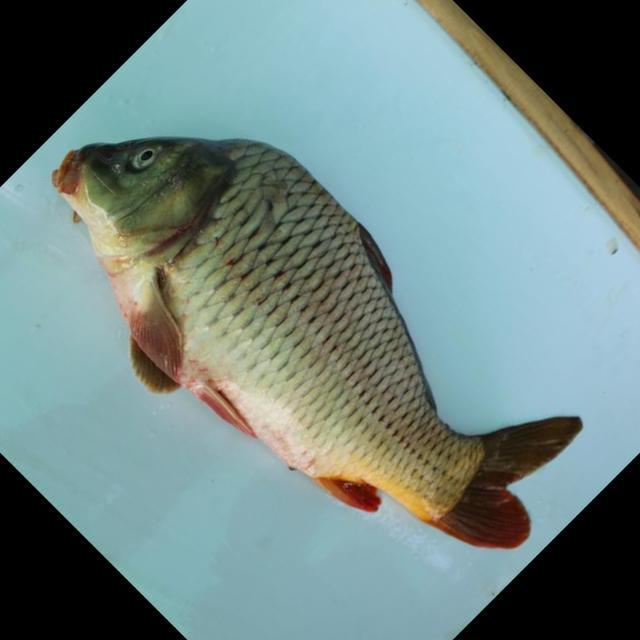CommonCarp: (43, 135, 586, 554)
